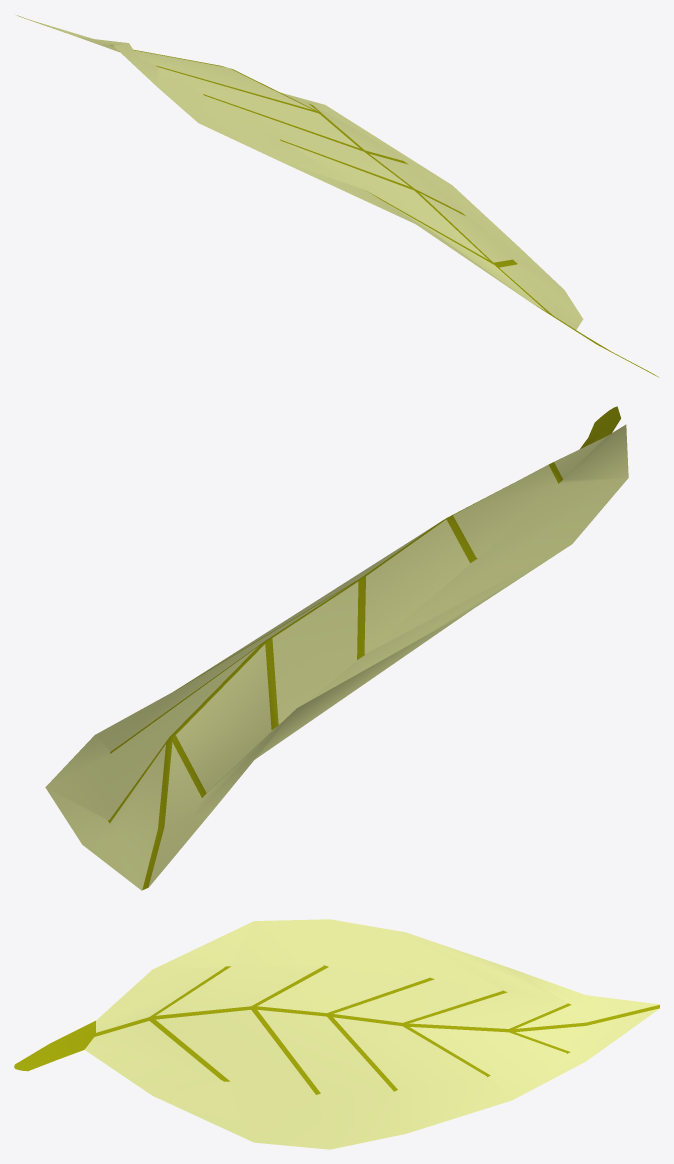
Rendered from daun1.fbx.
The picture shows the model from 3 angles, top to bottom: view 1: azimuth 30°, elevation 25°; view 2: azimuth 150°, elevation 25°; view 3: azimuth 270°, elevation 25°; orthographic projection. The views are drawn at different scales.
Parts seen in each view (by area): view 1: Plane; view 2: Plane; view 3: Plane.
Part boxes in pixels (left/top/right/bottom): Plane: left=17, top=15, right=659, bottom=377; Plane: left=45, top=406, right=628, bottom=890; Plane: left=14, top=919, right=659, bottom=1149.
Bounding box in the file's own units: 252 × 155 × 684.
